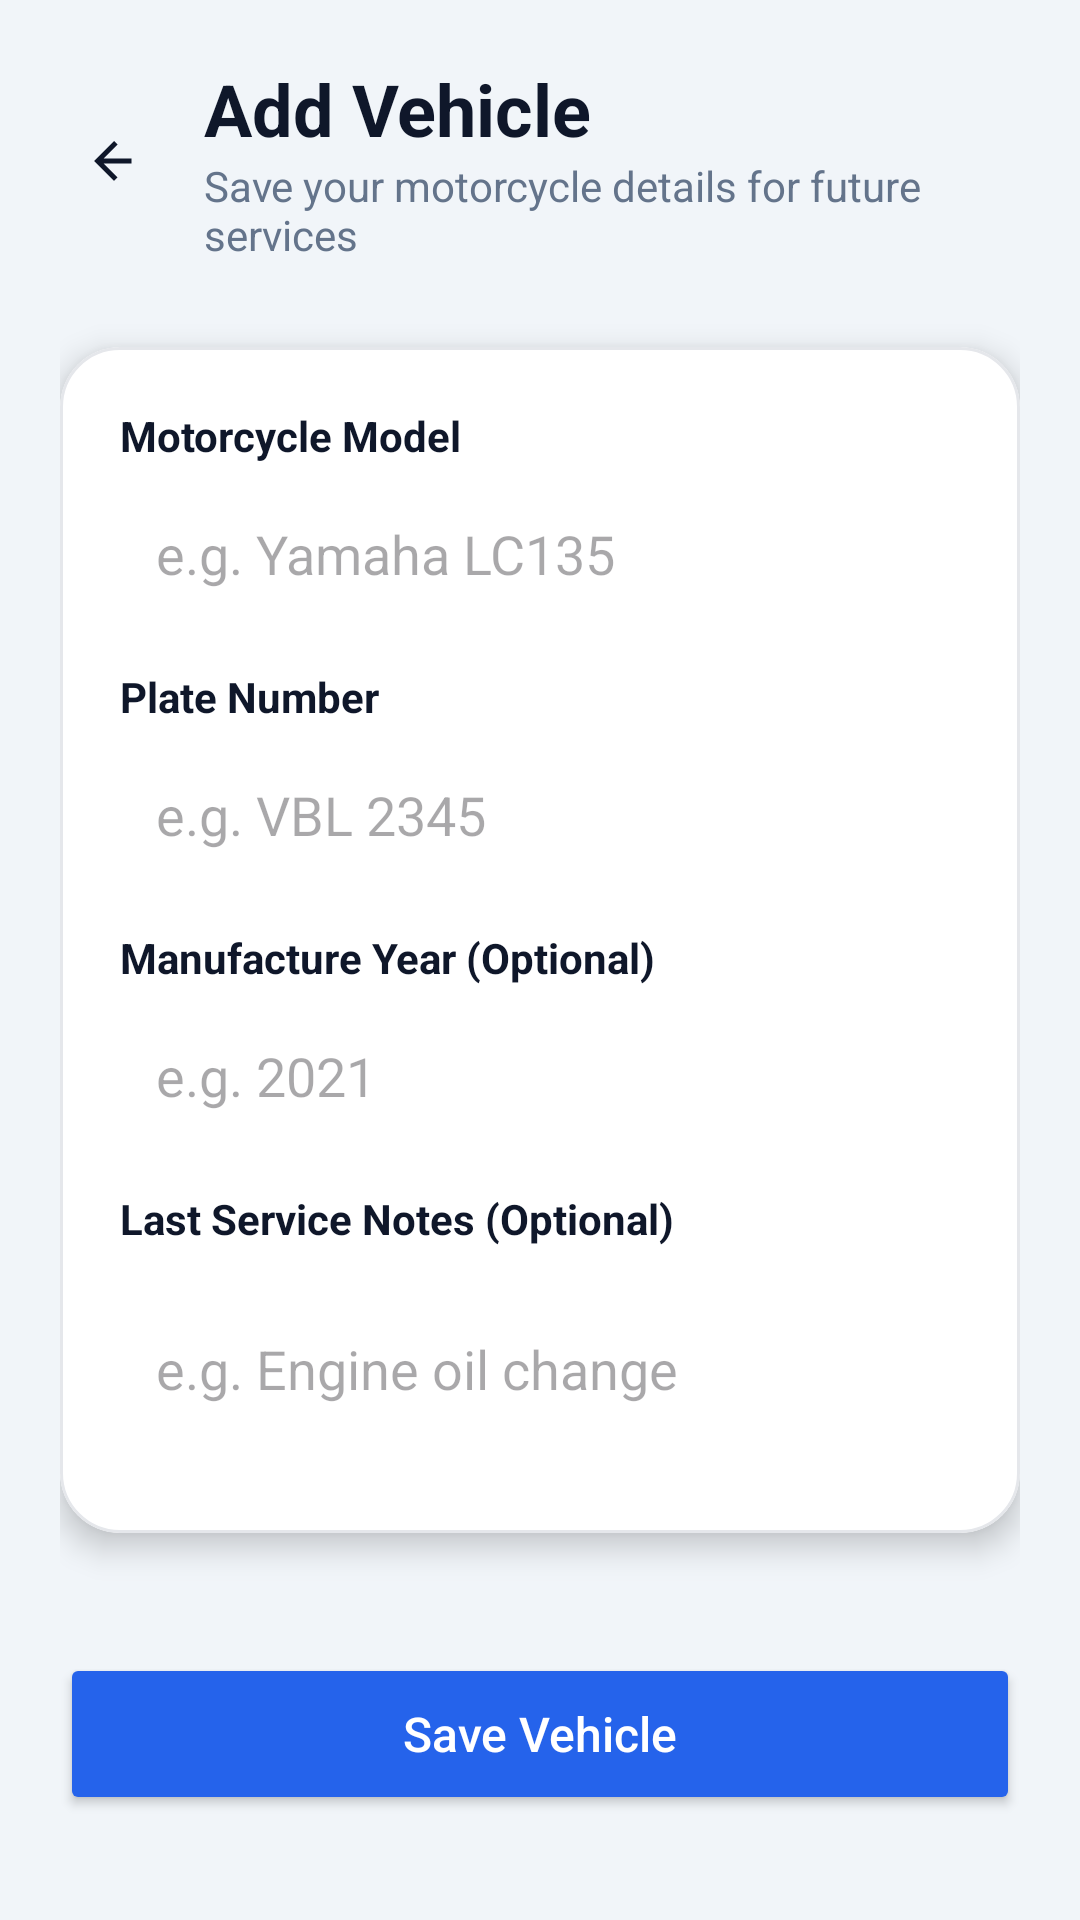

Screen size 1080x1920. Icon name, then its box in pixels as (x1, y1, x2, y2):
back: (94, 141, 132, 181)
